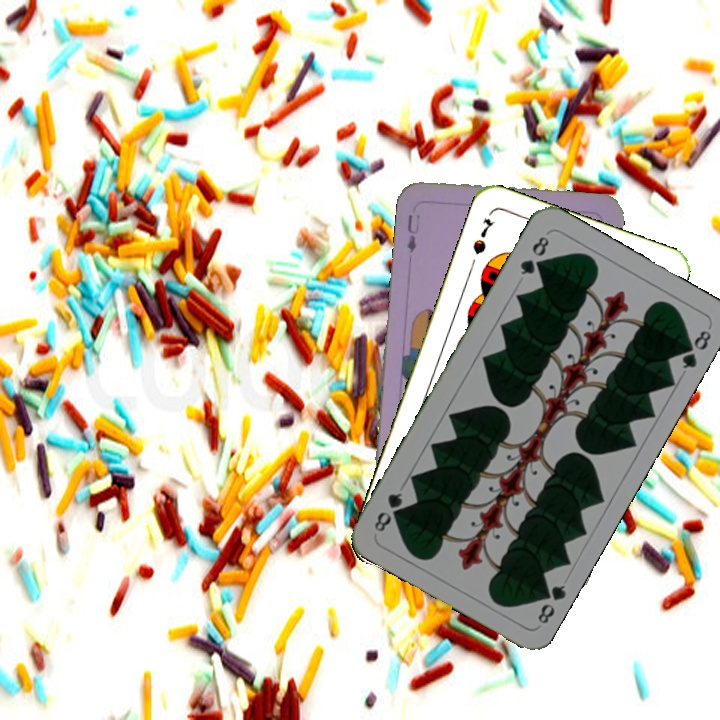EU: (403, 210, 423, 256)
G8: (516, 231, 552, 278), (533, 580, 569, 627)
S7: (468, 214, 497, 257)
